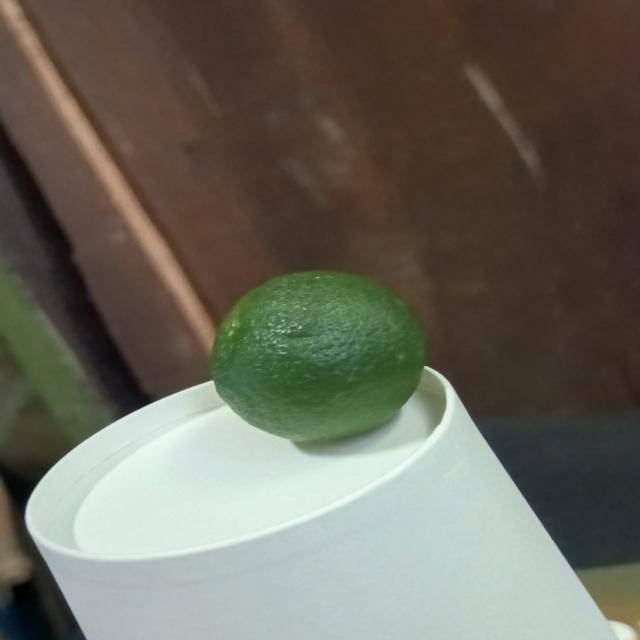heathy: (205, 264, 433, 444)
